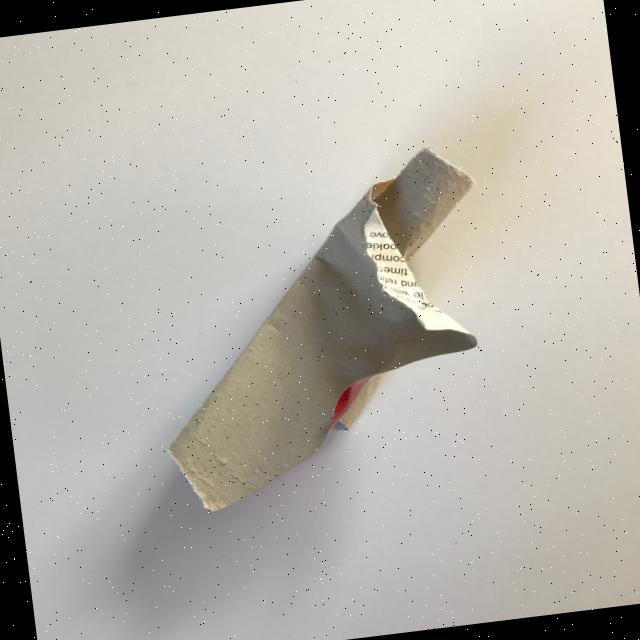paper: (134, 140, 511, 516)
